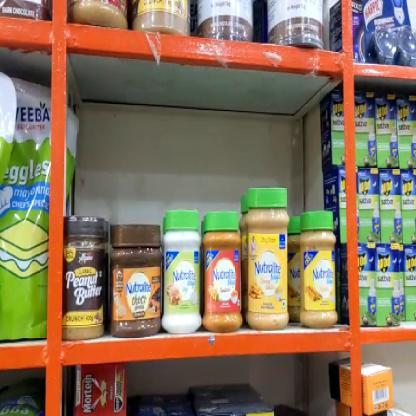Nutralite ACHARI MAYO 300g-275g-25g-: (299, 209, 337, 326)
Nutralite CHEESY GARLIC MAYO 300g-275g-25g-: (245, 186, 288, 329)
Nutralite CHOCO SPREAD CALCIUM 275g: (110, 221, 158, 336)
Nutralite TANDOORI MAYO 300g-275g-25g-: (204, 215, 240, 333)
Nutralite VEG MAYO 300g-275g-25g-: (164, 211, 200, 334)
